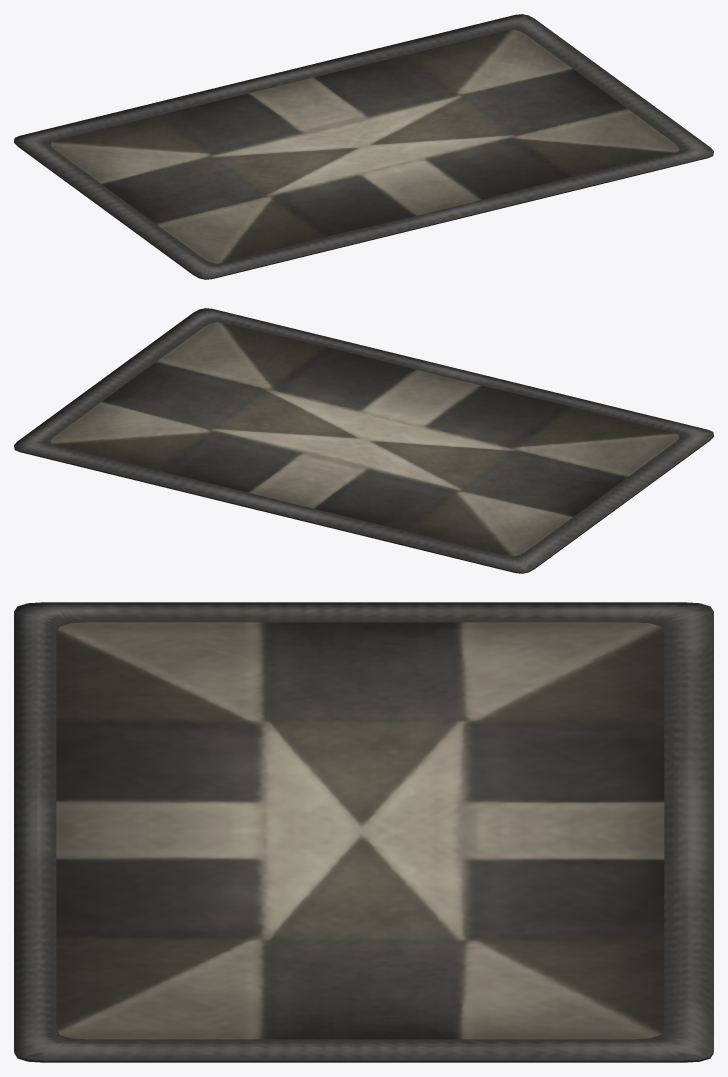
The model's file is ColonialCarpet_HD.fbx.
3 views of the same model, one above another, from view 1: azimuth 30°, elevation 25°; view 2: azimuth 150°, elevation 25°; view 3: azimuth 270°, elevation 25° (orthographic). The views are drawn at different scales.
Visible parts, largest first — view 1: ColonialCarpet; view 2: ColonialCarpet; view 3: ColonialCarpet.
Part boxes in pixels (<box>): ColonialCarpet: <box>14,14,713,279</box>; ColonialCarpet: <box>14,308,713,573</box>; ColonialCarpet: <box>14,602,713,1062</box>.
Size of the model in its own units: 2.72 by 0.0164 by 1.76.
